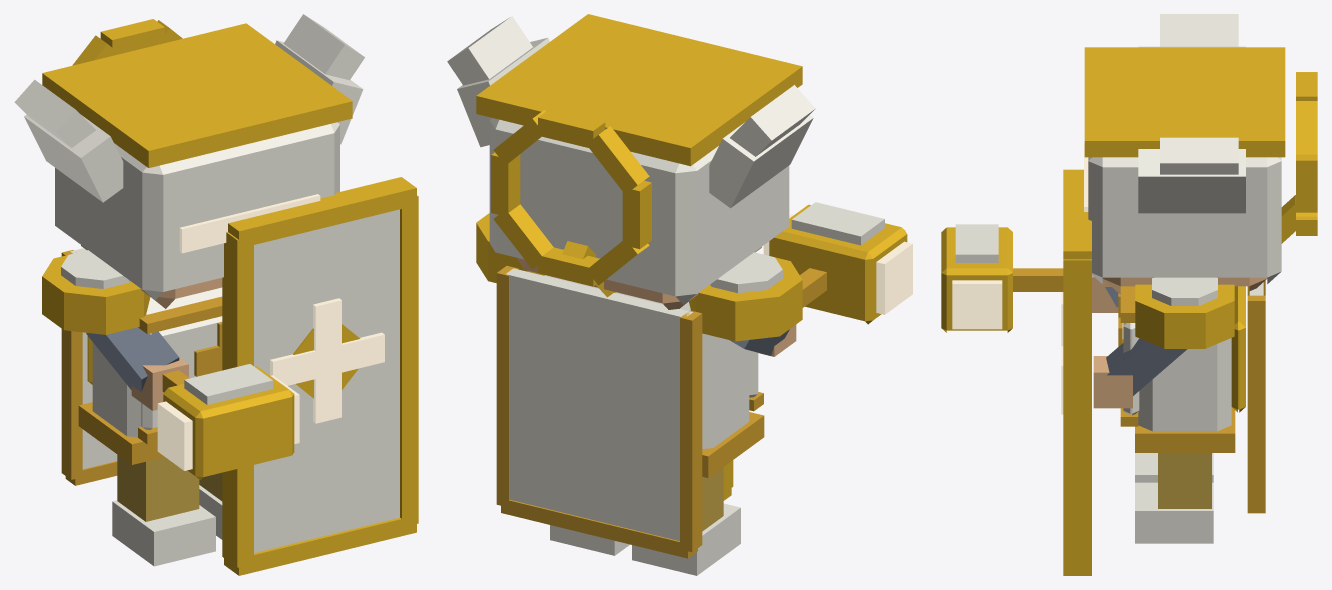
The model's file is shield_knight_legend.glb.
3 views of the same model, side by side, from view 1: azimuth 30°, elevation 25°; view 2: azimuth 150°, elevation 25°; view 3: azimuth 270°, elevation 25° (orthographic). The views are drawn at different scales.
Parts seen in each view (by area): view 1: shield_knight_legend_mesh; view 2: shield_knight_legend_mesh; view 3: shield_knight_legend_mesh.
Part boxes in pixels (bbox=[...]): shield_knight_legend_mesh: bbox=[14, 14, 418, 575]; shield_knight_legend_mesh: bbox=[447, 14, 912, 575]; shield_knight_legend_mesh: bbox=[941, 14, 1317, 575].
Bounding box in the file's own units: 0.9149 × 1.3 × 1.02.
Materials: 2 (2 with a texture image).
